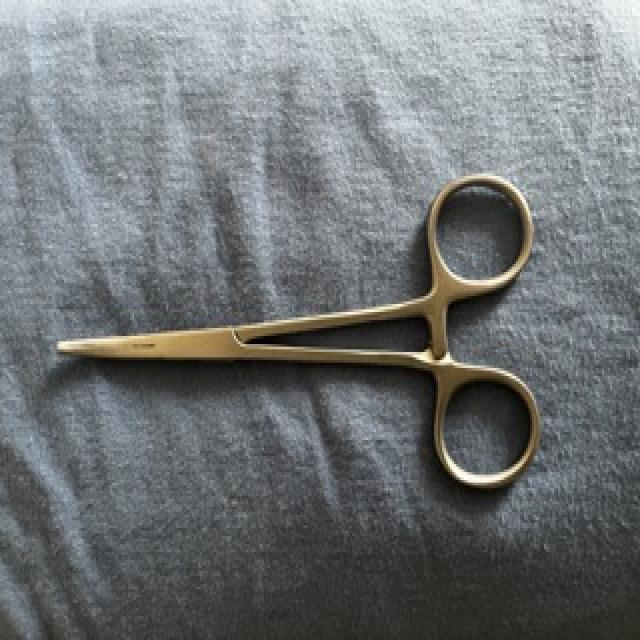Gunting: (48, 162, 551, 500)
